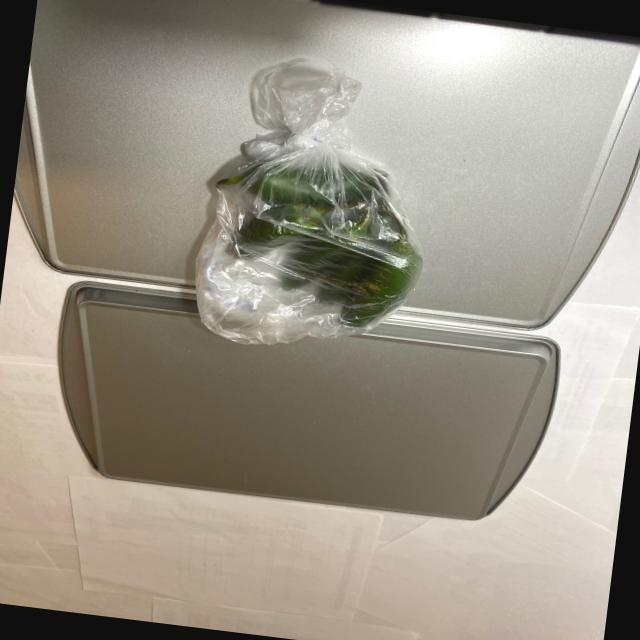chilli: (192, 125, 439, 348)
